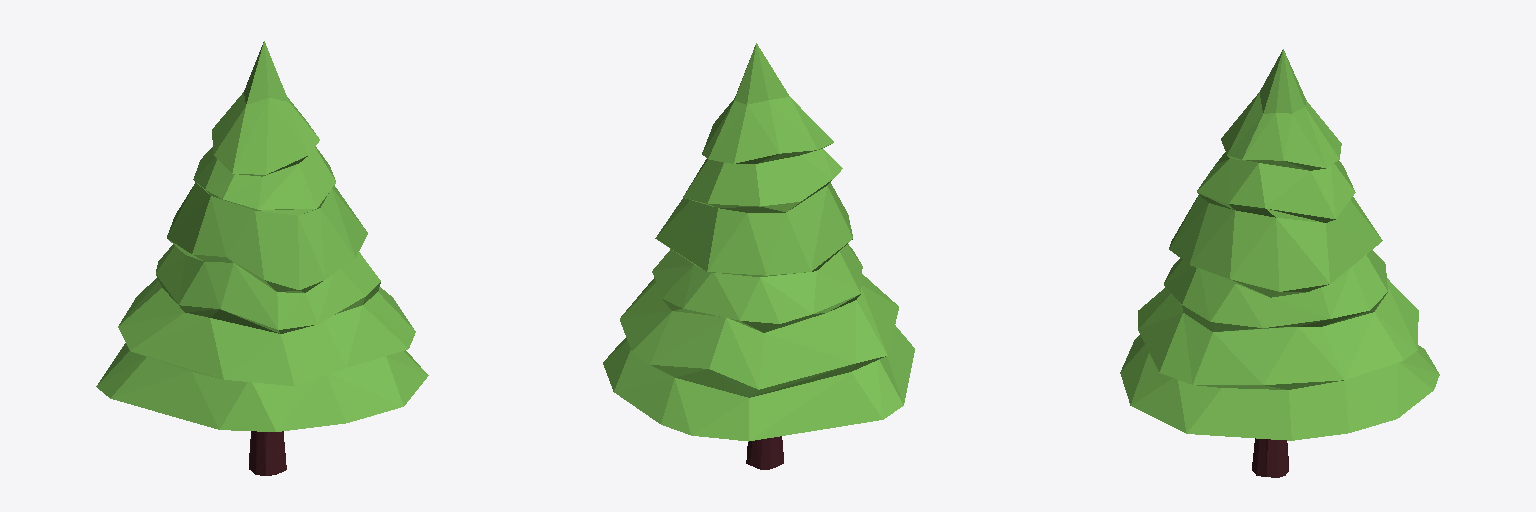
File: tree-pyramidal.obj
3 renders of one model, left to right at view 1: azimuth 30°, elevation 25°; view 2: azimuth 150°, elevation 25°; view 3: azimuth 270°, elevation 25°, orthographic.
Parts seen in each view (by area): view 1: leaves_Sphere, trunk_Cube; view 2: leaves_Sphere, trunk_Cube; view 3: leaves_Sphere, trunk_Cube.
Boxes of the visible parts, <box> form: leaves_Sphere: <box>96,41,428,431</box>; trunk_Cube: <box>249,431,286,475</box>; leaves_Sphere: <box>603,43,914,441</box>; trunk_Cube: <box>746,436,783,469</box>; leaves_Sphere: <box>1120,49,1439,440</box>; trunk_Cube: <box>1252,438,1288,477</box>.
Bounding box in the file's own units: 6.24 × 8.98 × 6.13.